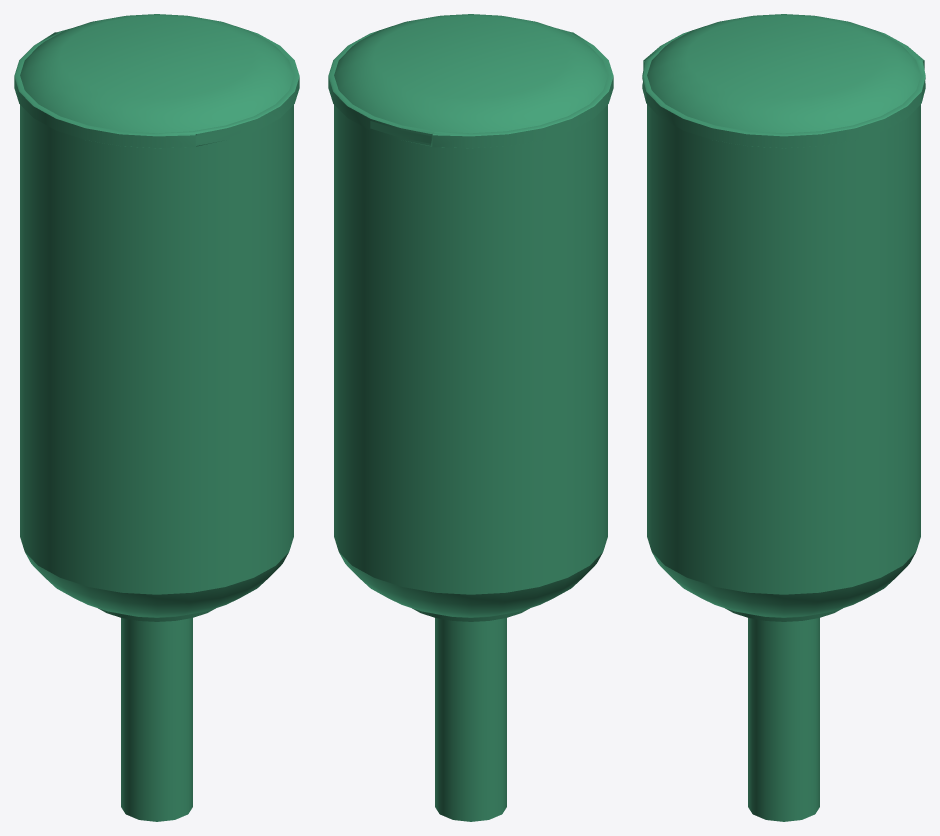
The model's file is filter1.fbx.
The picture shows the model from 3 angles, left to right: view 1: azimuth 30°, elevation 25°; view 2: azimuth 150°, elevation 25°; view 3: azimuth 270°, elevation 25°; orthographic projection.
Visible parts, largest first — view 1: PF2-TODO; view 2: PF2-TODO; view 3: PF2-TODO.
Part boxes in pixels (x1,y1,x2,y2): PF2-TODO: (14,14,299,821); PF2-TODO: (328,14,613,821); PF2-TODO: (642,14,925,821).
Bounding box in the file's own units: 15.25 × 44.18 × 15.15.
